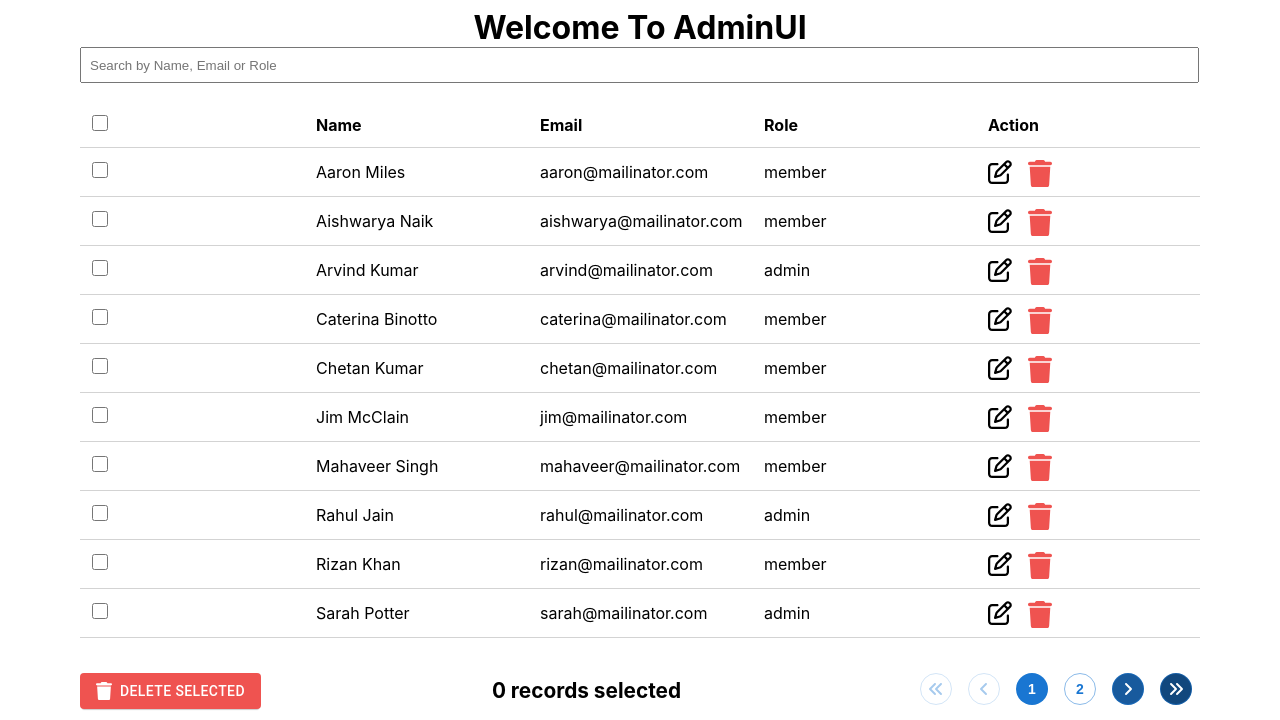
Test case: Admin-UI - Admin Table Test › 8. should have a save button and throw error if 'Name' field is empty when clicked on save button after editing
The width and height of the screenshot is (1280, 720).
Click the 3rd button named "edit user button" at (1000, 270), box [988, 258, 1012, 282]
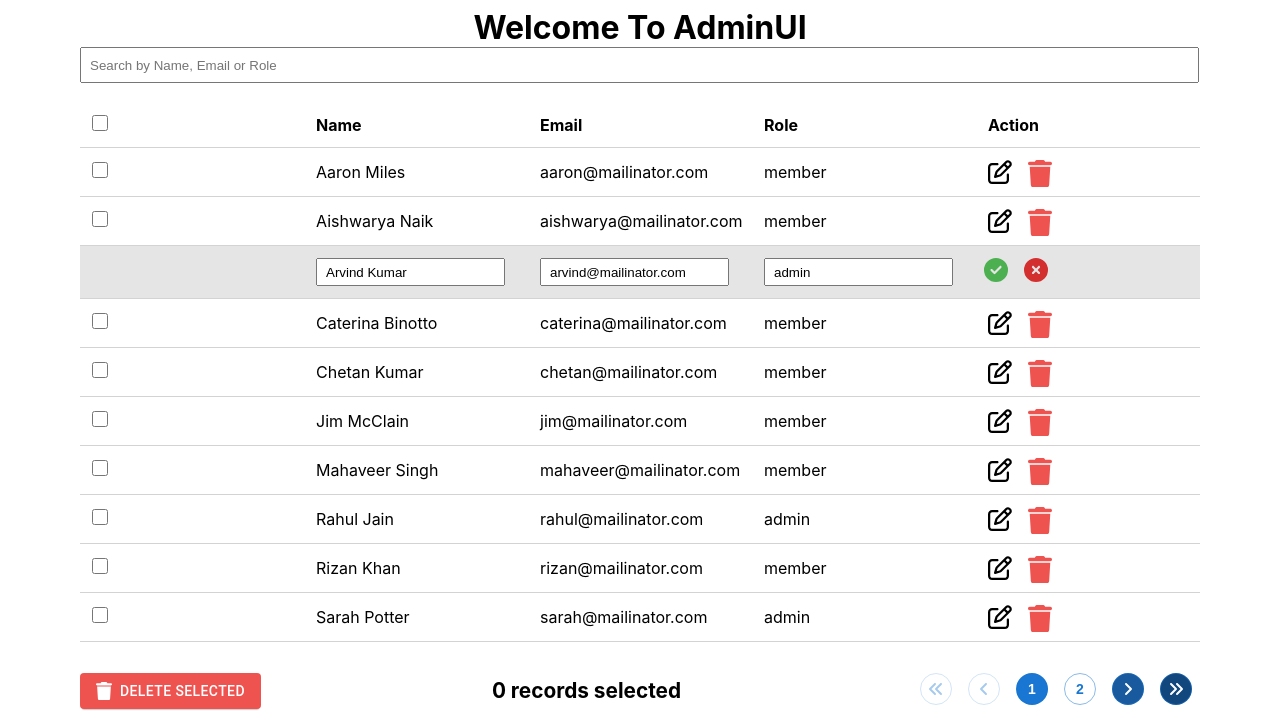
Clear the field with placeholder "Enter name" at (410, 272), box [316, 258, 505, 286]
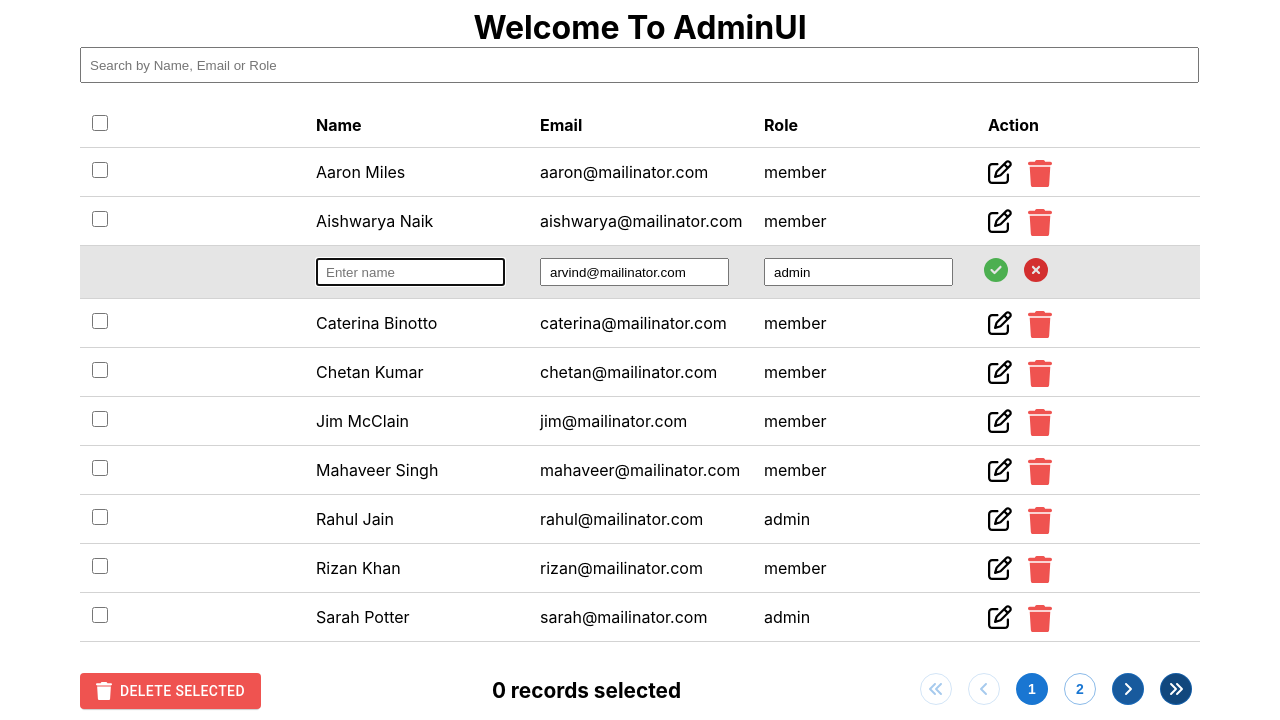
Expected: the button named "save updated user detail" is shown
Click the button named "save updated user detail" at (996, 270), box [984, 258, 1008, 282]
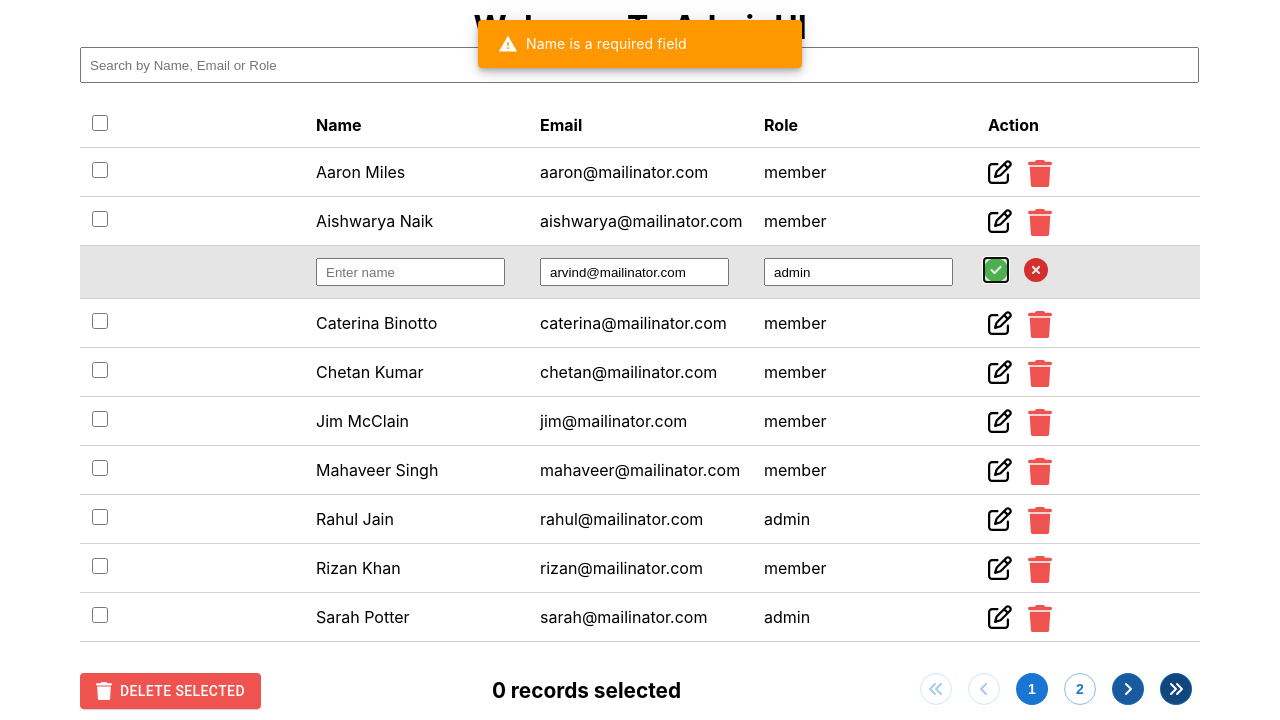
Expected: the message "Name is a required field" is shown, [478, 20, 802, 68]
Expected: the message reads "Name is a required field", [526, 35, 687, 52]
